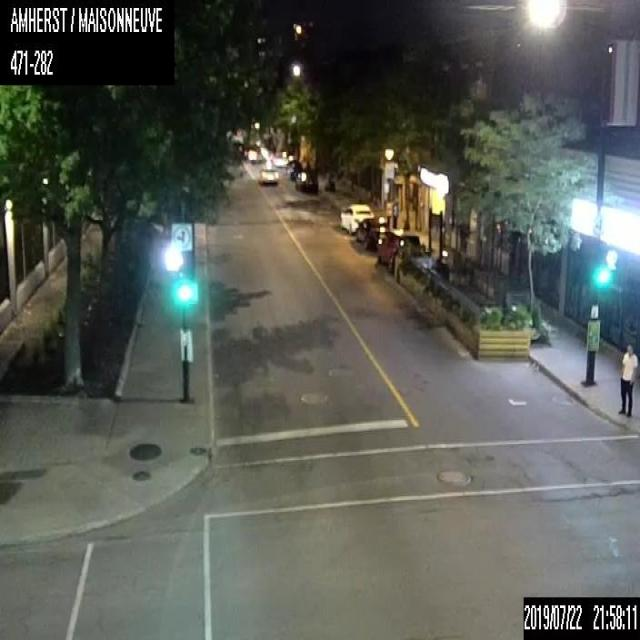pedestrian: (616, 345, 639, 415)
vehicle: (376, 229, 419, 271), (393, 245, 432, 278), (355, 217, 390, 251), (339, 202, 374, 234), (295, 169, 319, 192), (259, 164, 278, 183), (286, 160, 302, 180)
